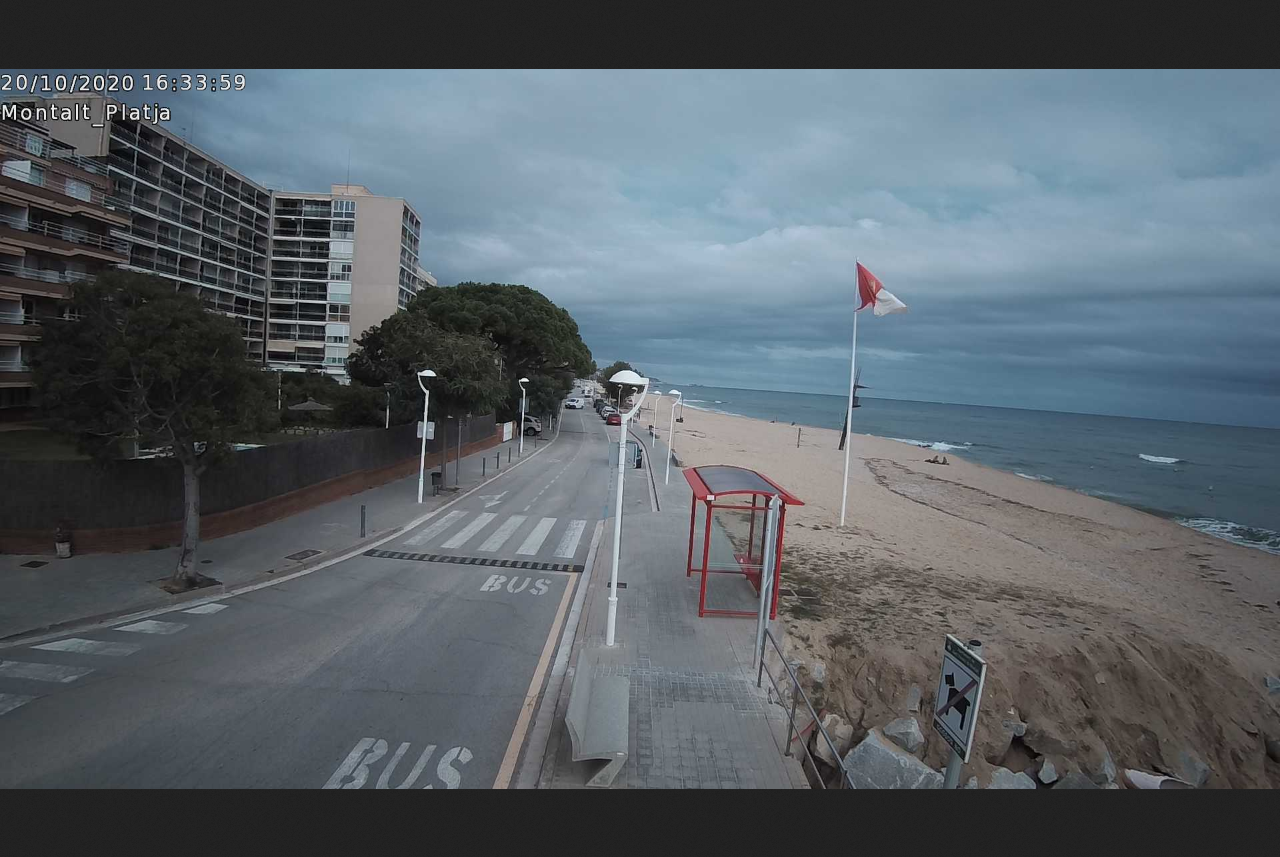maybe: (846, 252, 915, 328)
